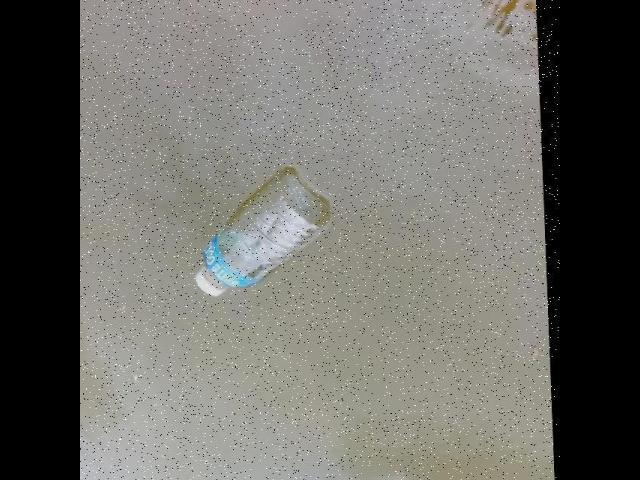Bottle: (188, 156, 336, 306)
